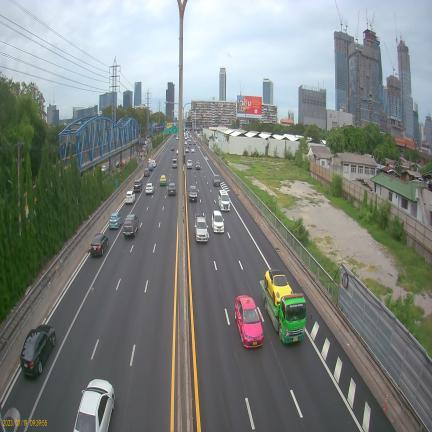car: (74, 379, 115, 432), (20, 324, 56, 376), (264, 269, 292, 306), (90, 233, 109, 256), (123, 214, 139, 237), (212, 210, 224, 233), (218, 189, 230, 211), (109, 212, 122, 229), (125, 190, 135, 204), (189, 186, 197, 202), (134, 179, 143, 192), (168, 183, 176, 196), (145, 183, 154, 194), (213, 174, 220, 186), (160, 175, 166, 185), (116, 161, 124, 168), (187, 160, 193, 169), (195, 161, 201, 170), (101, 165, 108, 172), (144, 168, 149, 176), (152, 159, 156, 168), (148, 164, 153, 171), (148, 158, 152, 166), (185, 147, 189, 152), (191, 147, 195, 152), (176, 148, 179, 154), (171, 146, 174, 151), (193, 141, 196, 145), (176, 136, 178, 140)
pickup: (195, 214, 209, 242)
taxi: (235, 296, 263, 348)
truck: (260, 280, 306, 343)
van: (172, 159, 177, 168)
